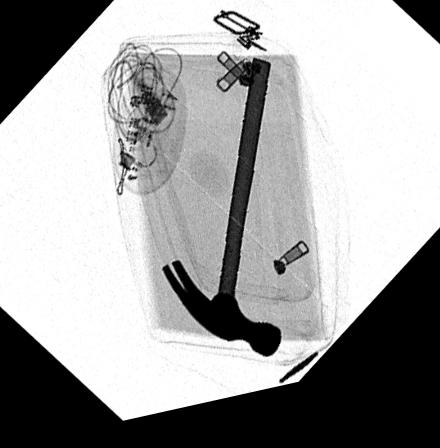Hammer: (160, 69, 282, 372)
